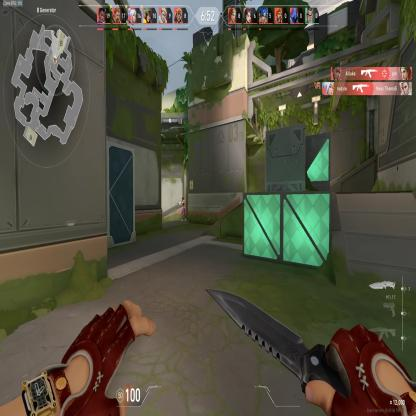enemy: (178, 196, 186, 222)
